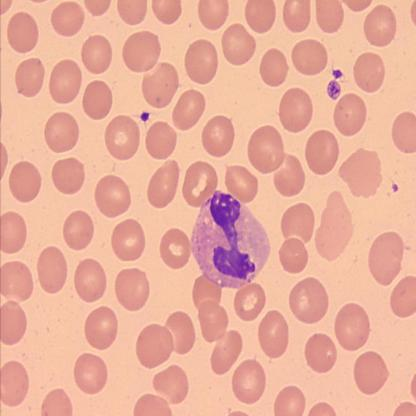Segmented neutrophil: (188, 188, 273, 290)
